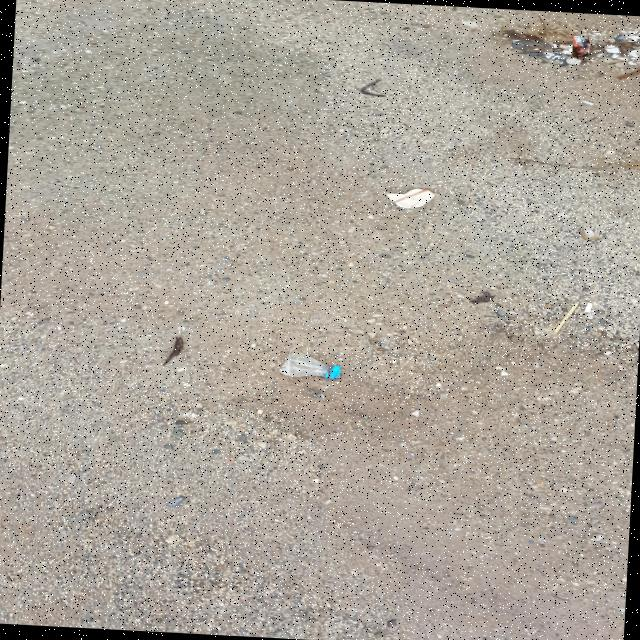Cigarette: (582, 101, 594, 105)
Clear plastic bottle: (280, 352, 340, 379)
Other plastic: (574, 37, 589, 57)
Other plastic bottle: (386, 188, 435, 209)
Plastic bottle cap: (329, 367, 340, 377)
Unlabeled litter: (513, 41, 553, 52)
